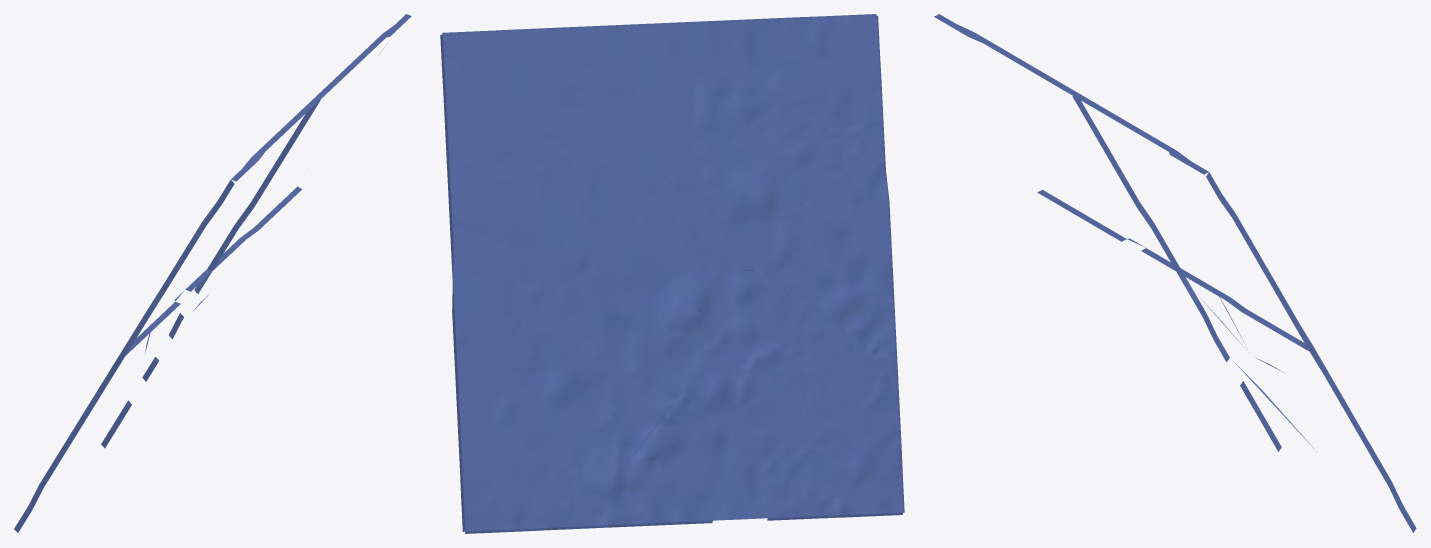
The picture shows the model from 3 angles, left to right: view 1: azimuth 30°, elevation 25°; view 2: azimuth 150°, elevation 25°; view 3: azimuth 270°, elevation 25°; orthographic projection. The views are drawn at different scales.
Bounding box in the file's own units: 157273 × 139014 × 143555.
Materials: 1 (1 with a texture image).
